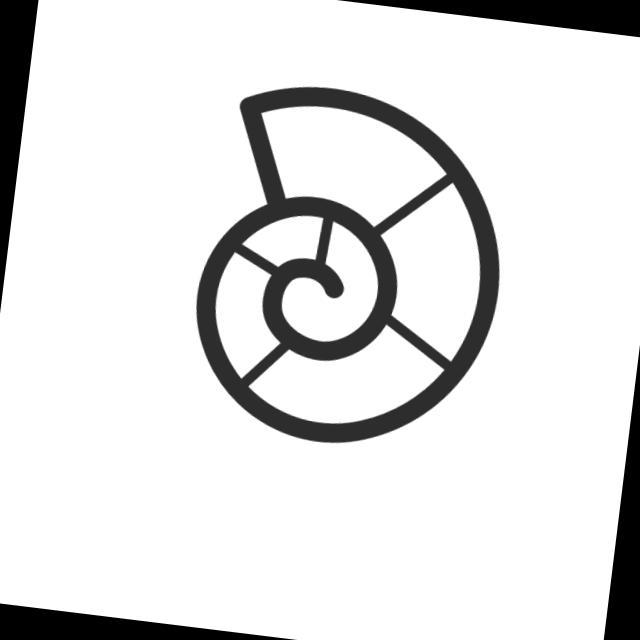fossil: (174, 71, 524, 467)
